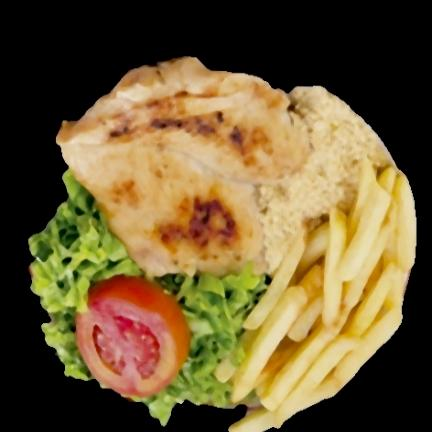chicken: (57, 58, 309, 275)
potato: (229, 164, 416, 432)
salad: (28, 170, 144, 380), (138, 265, 268, 426)
tomato: (77, 276, 189, 398)
